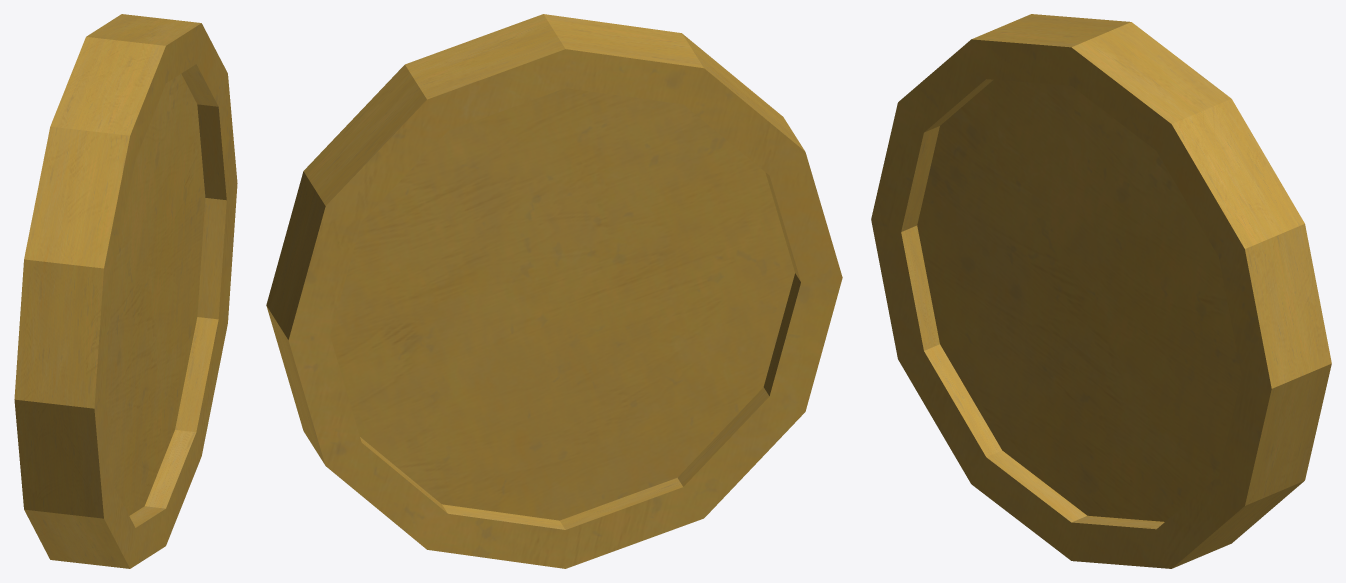
The model's file is coin.fbx.
3 renders of one model, left to right at view 1: azimuth 30°, elevation 25°; view 2: azimuth 150°, elevation 25°; view 3: azimuth 270°, elevation 25°, orthographic. The views are drawn at different scales.
Visible parts, largest first — view 1: Cylinder; view 2: Cylinder; view 3: Cylinder.
Boxes of the visible parts, box(x1,y1,x2,y2) form: Cylinder: box(14, 14, 237, 568); Cylinder: box(266, 14, 842, 568); Cylinder: box(871, 14, 1331, 568).
Size of the model in its own units: 163 by 200 by 163.
